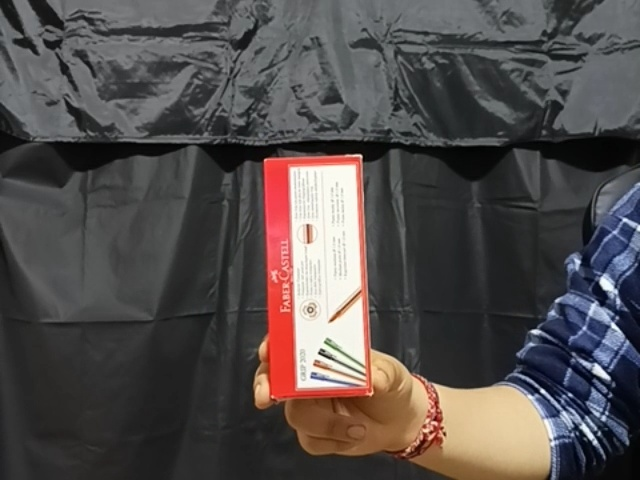xd: (261, 156, 376, 399)
